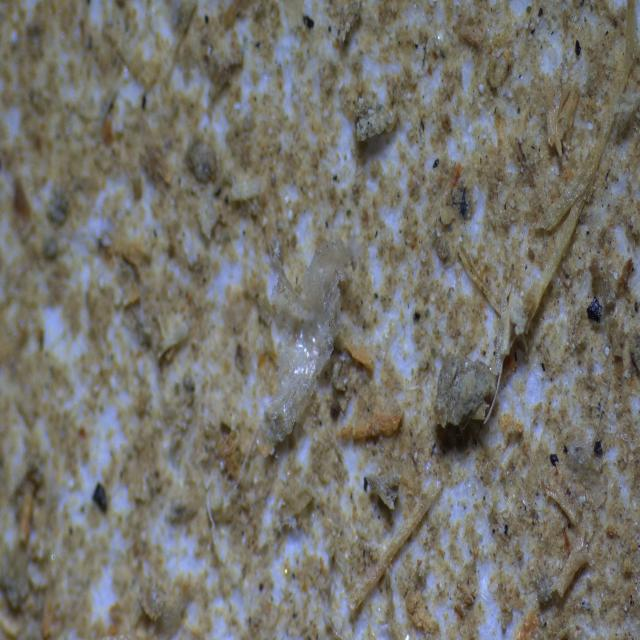microplastic: (240, 223, 358, 463)
